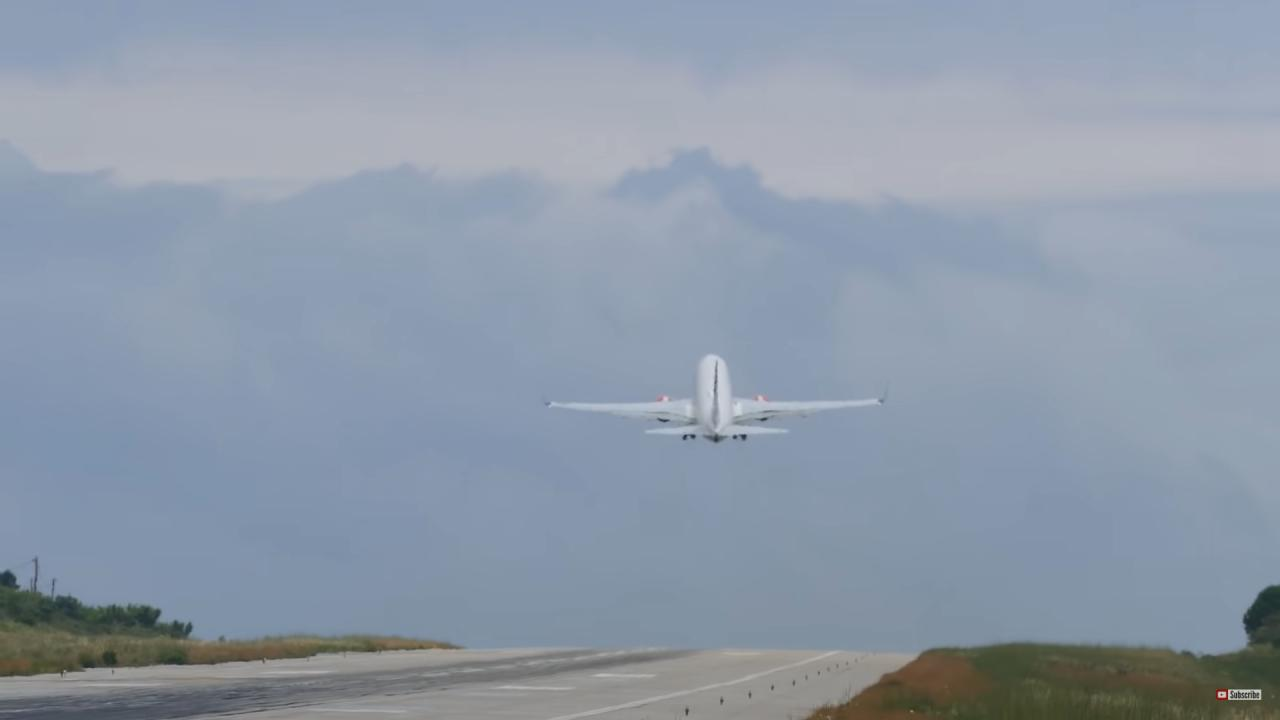Airplane: (533, 343, 896, 453)
